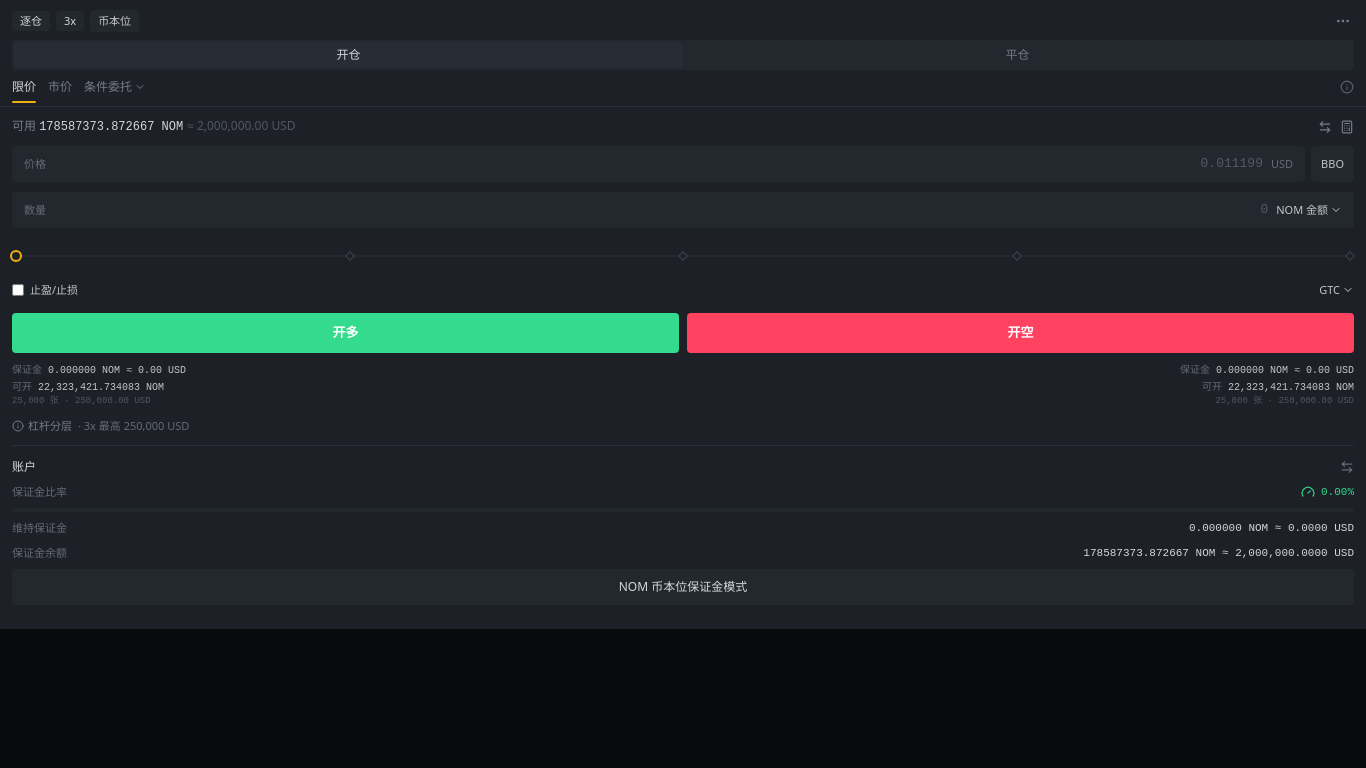
Test: 随单下达的止盈止损 › 跟踪委托 不给勾选止盈止损
This screenshot has width=1366, height=768.
Click the button with test id "advanced-type-slot" at (115, 90), box [84,78,146,102]
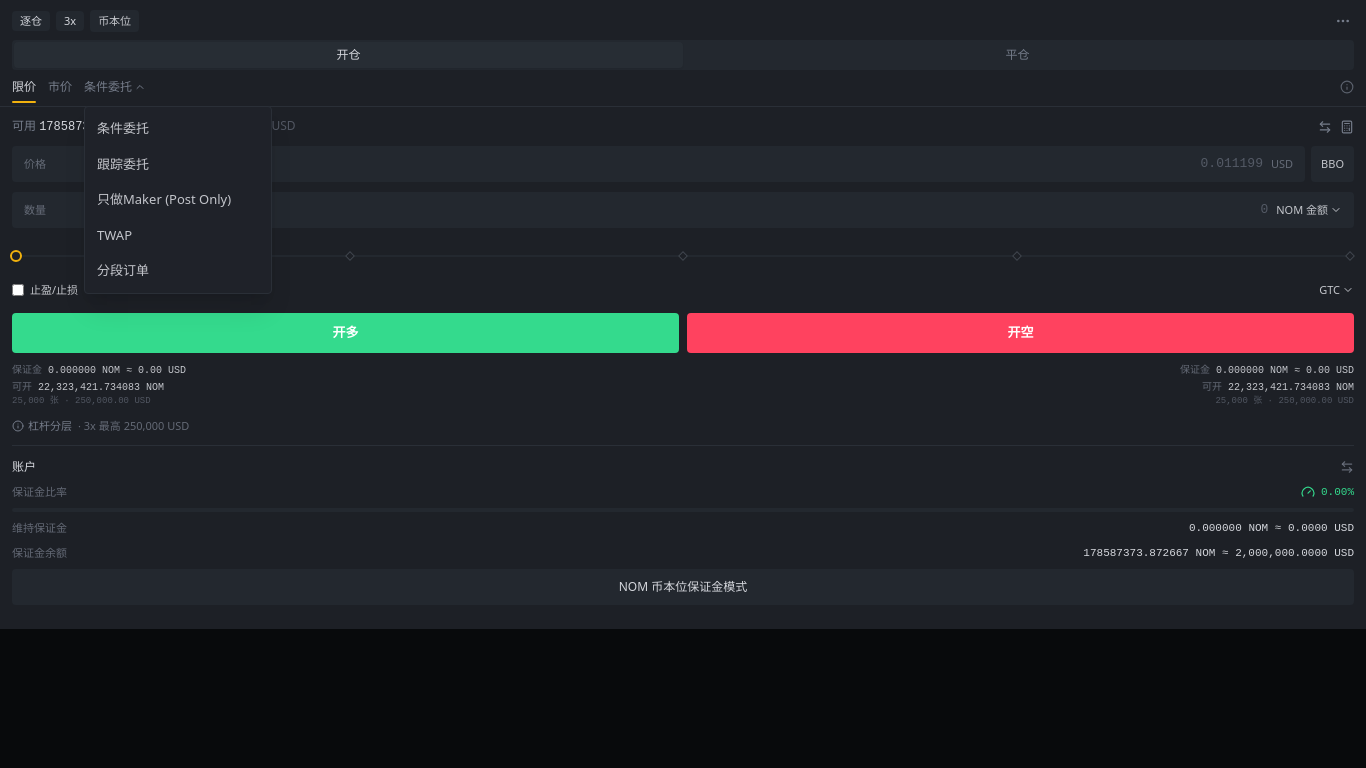
Click the button "跟踪委托" at (178, 164), box [85,146,271,182]
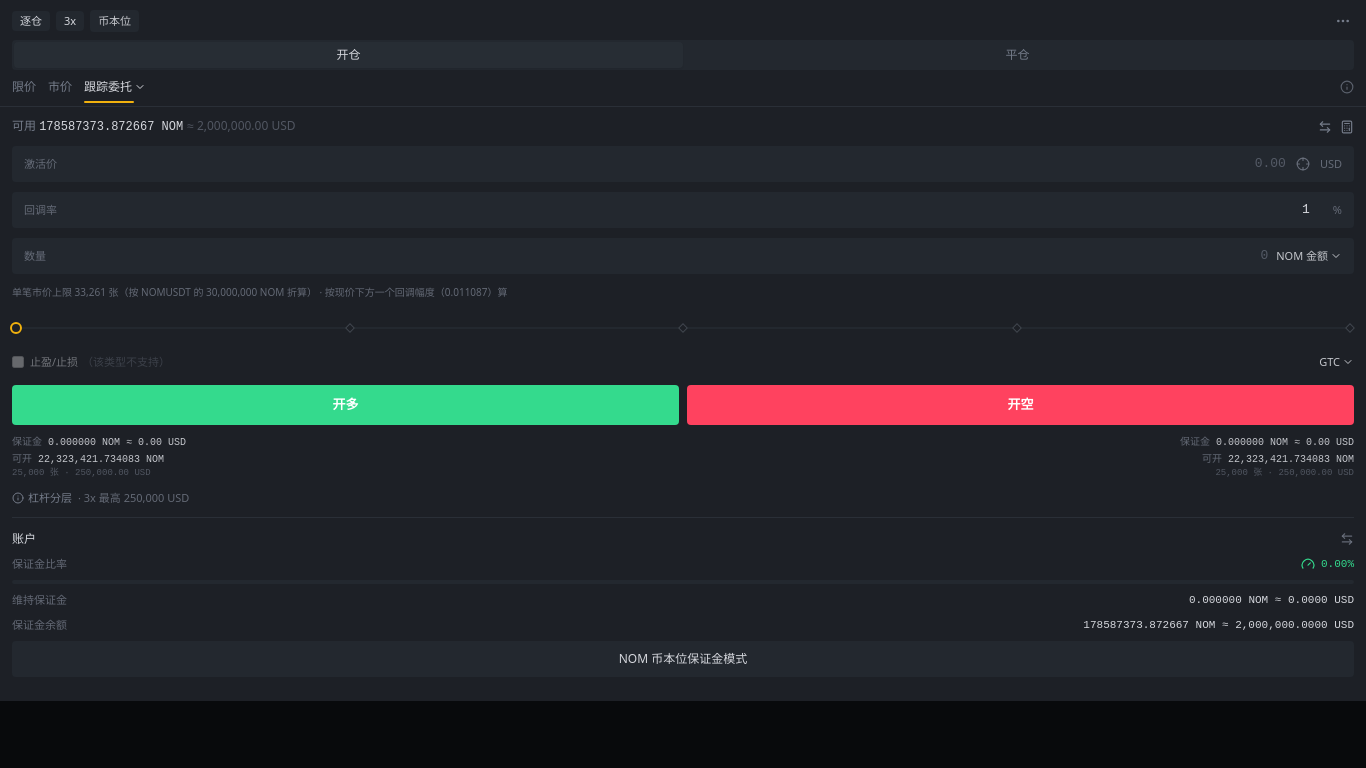
Now the checkbox with test id "enable-tpsl" is disabled, box [12,356,24,368]
Now the text "（该类型不支持）" is shown, box [82,354,170,369]
